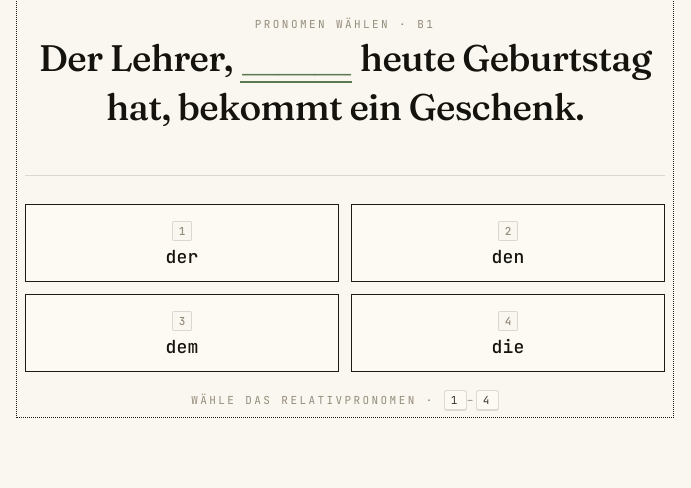
Test: RelativRunner › a correct pick shows the correct verdict, the full corrected sentence and the explanation
Click the button with class "choice" showing "1 der": click(182, 243) top-left (25, 204), bottom-right (339, 282)
(page scrolled)
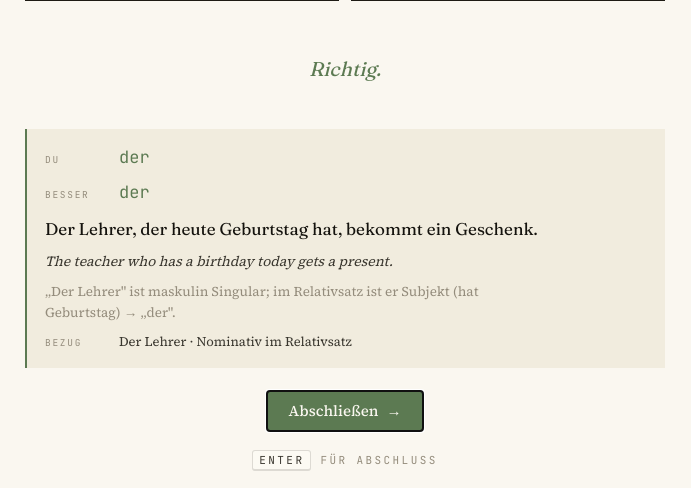
Now the text "Richtig." is shown, box top-left (309, 53), bottom-right (381, 85)
Now the text with class "feedback-line" shows "Richtig", box top-left (309, 56), bottom-right (381, 81)
Now the text "„Der Lehrer\" ist maskulin Singular; im Relativsatz ist er Subjekt (hat Geburtstag) → „der\"." is shown, box top-left (45, 282), bottom-right (478, 322)
